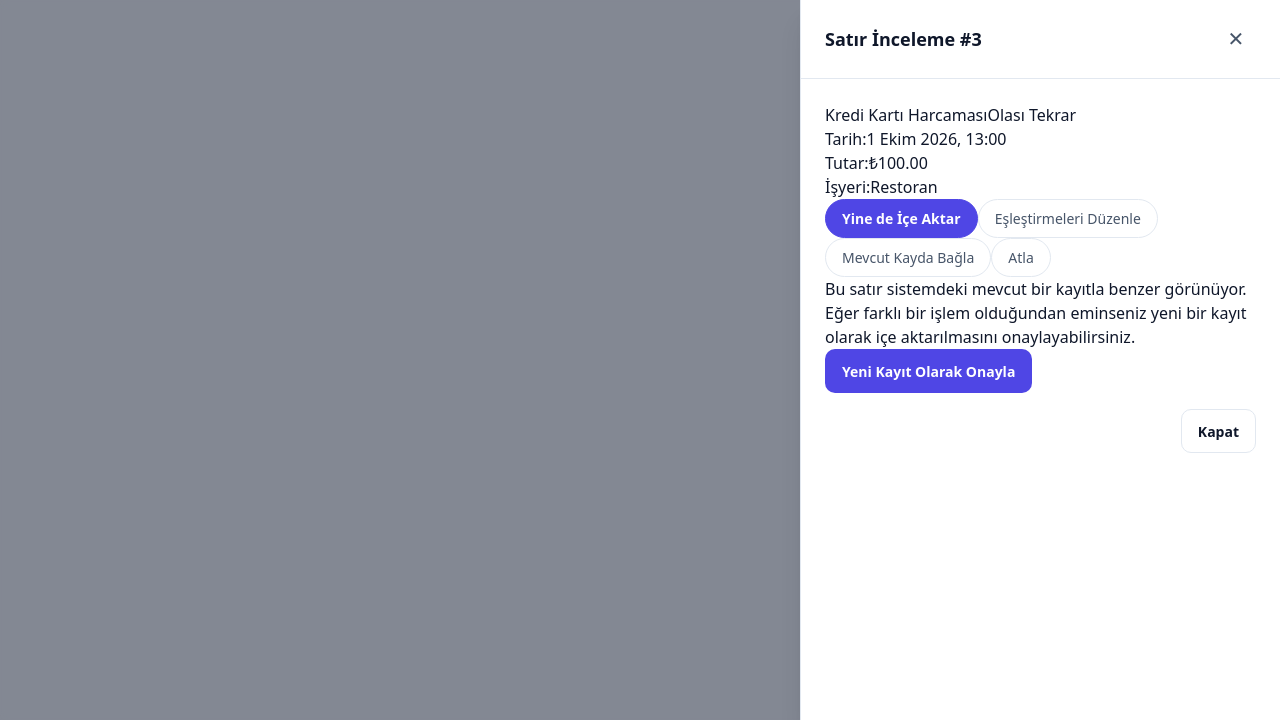
Test: F9 — CSV Imports & Resolution Unit & Integration Suite › disallows direct link to IMPORT_ROW candidate type
Click the tab with test id "tab-link-existing": x=908, y=258 [825,238,991,277]
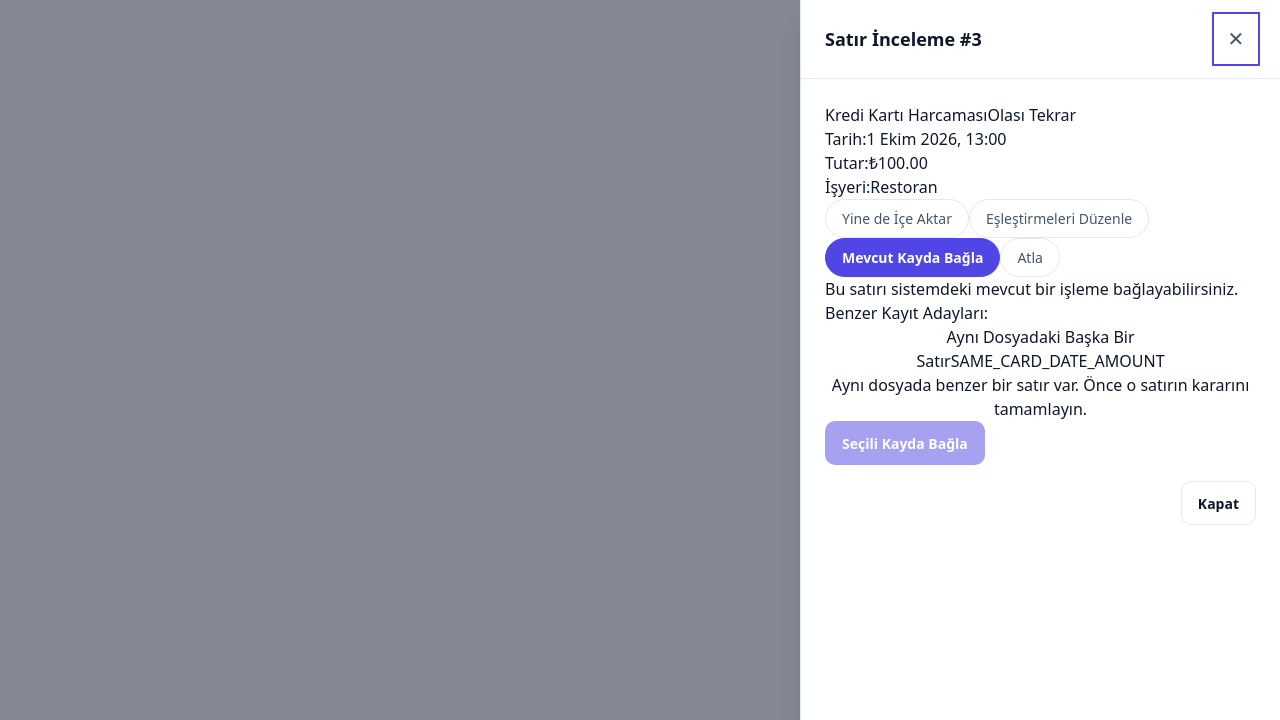
Check: the text "Aynı dosyada benzer bir satır var" is shown, box [832,374,1249,420]
